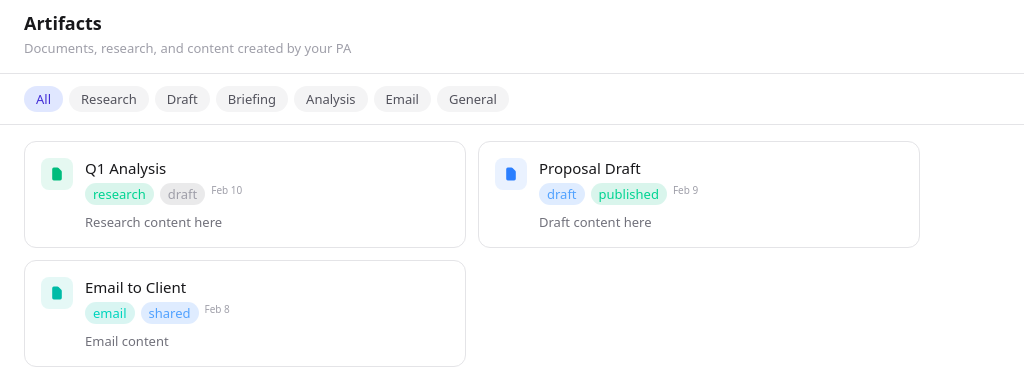
it: ArtifactsView › filters by type when filter clicked
Click the button "Research" at (109, 99), box [69,86,149,112]
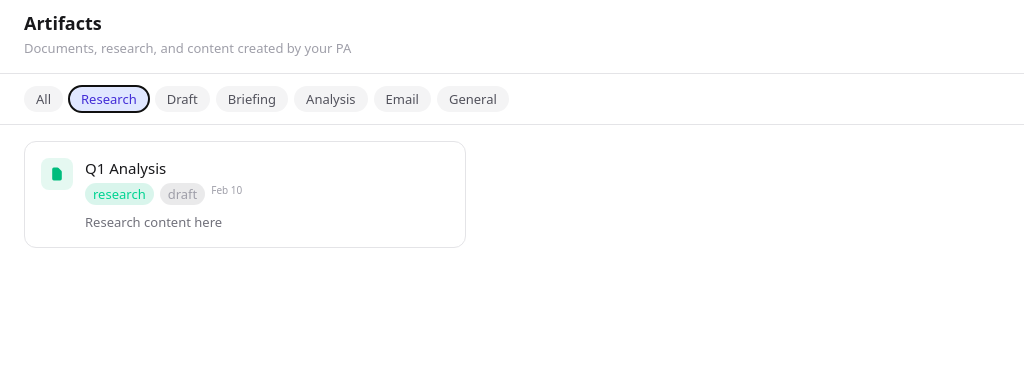
expect the heading "Q1 Analysis" is shown: met, box [85,158,166,178]
expect the button "Proposal Draft" is gone: met
expect the button "Email to Client" is gone: met
